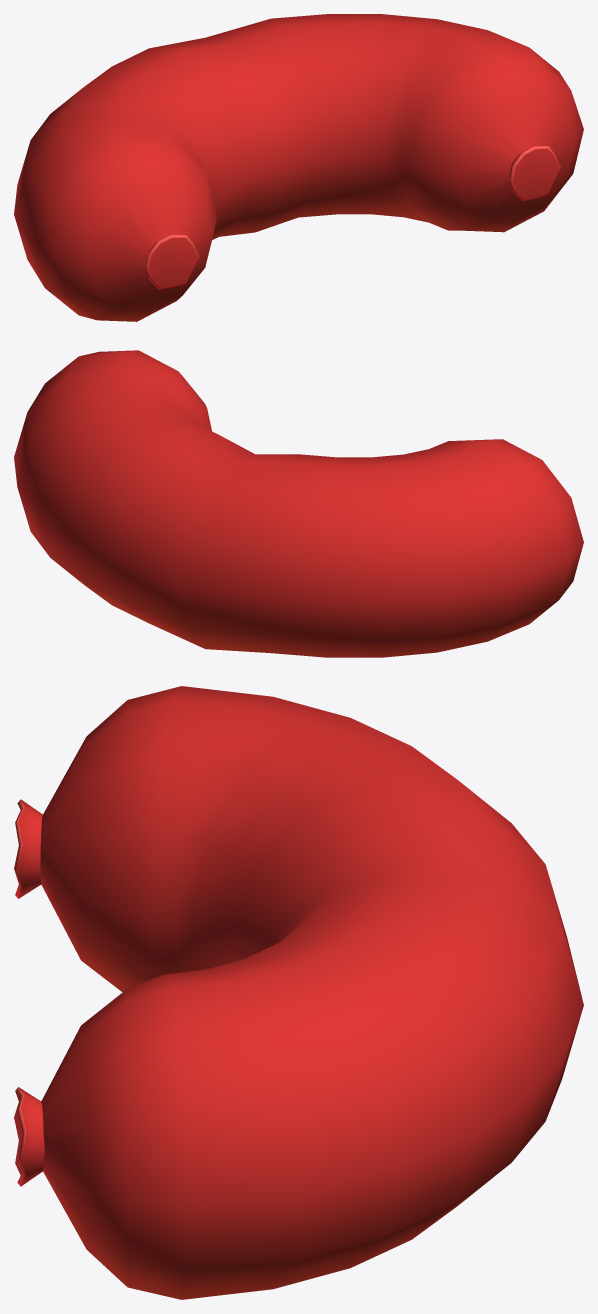
The model's file is Sausage_mini_01.fbx.
3 views of the same model, one above another, from view 1: azimuth 30°, elevation 25°; view 2: azimuth 150°, elevation 25°; view 3: azimuth 270°, elevation 25° (orthographic). The views are drawn at different scales.
Visible parts, largest first — view 1: Sausage_mini_01; view 2: Sausage_mini_01; view 3: Sausage_mini_01.
Part boxes in pixels (left/top/right/bottom): Sausage_mini_01: left=14, top=14, right=583, bottom=321; Sausage_mini_01: left=14, top=350, right=583, bottom=657; Sausage_mini_01: left=14, top=686, right=583, bottom=1299.
Bounding box in the file's own units: 147 × 82.88 × 48.17.
